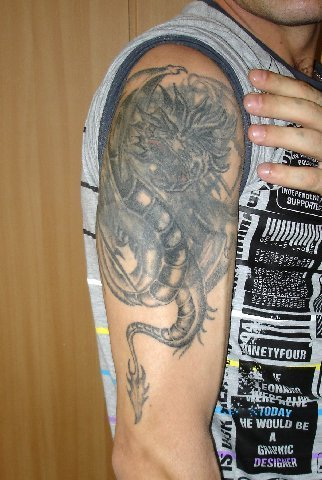tatu6_drakon: (99, 62, 243, 435)
